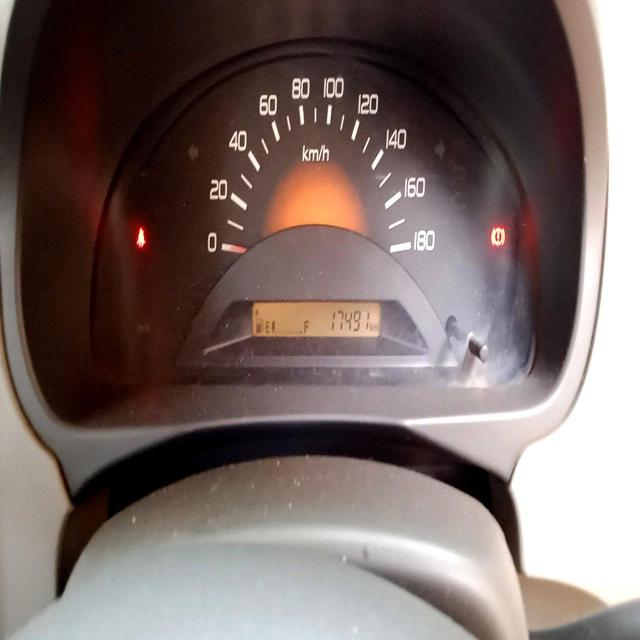odometer: (326, 305, 370, 336)
